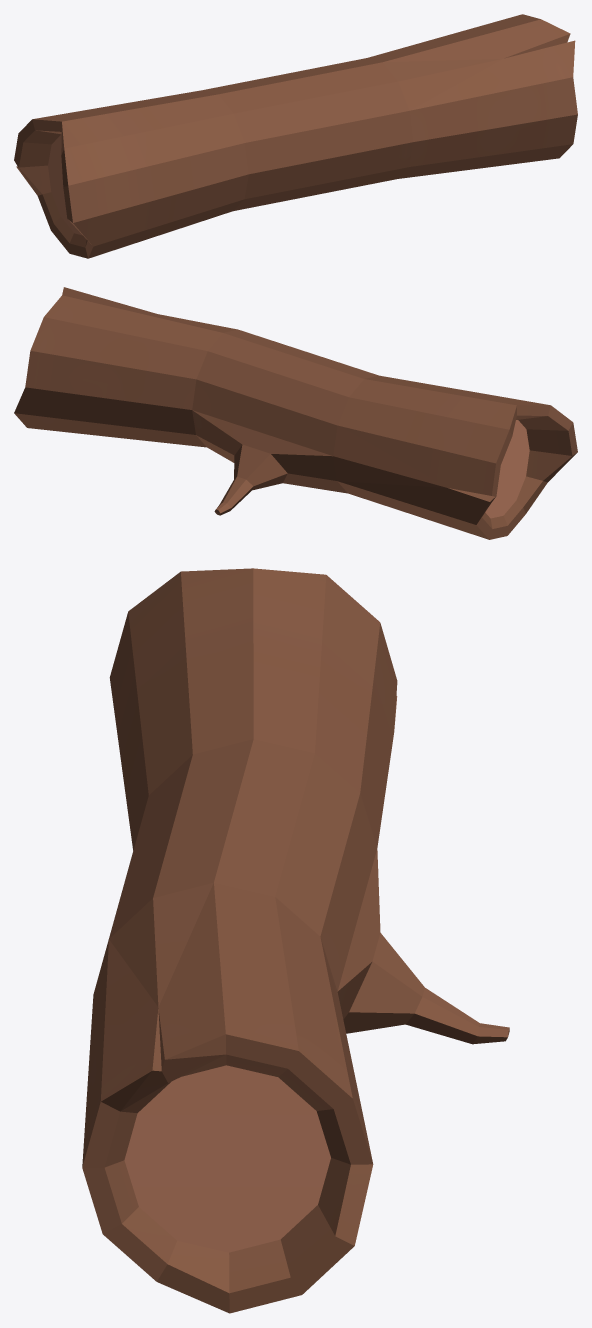
The model's file is mod_bg_RondinGrandPetit.fbx.
3 views of the same model, one above another, from view 1: azimuth 30°, elevation 25°; view 2: azimuth 150°, elevation 25°; view 3: azimuth 270°, elevation 25° (orthographic). The views are drawn at different scales.
Visible parts, largest first — view 1: RondinGrandPetit; view 2: RondinGrandPetit; view 3: RondinGrandPetit.
Part boxes in pixels (x1=…): RondinGrandPetit: x1=14, y1=14, x2=577, y2=258; RondinGrandPetit: x1=14, y1=287, x2=577, y2=539; RondinGrandPetit: x1=82, y1=568, x2=509, y2=1313.
Bounding box in the file's own units: 183 × 48.57 × 67.46.
